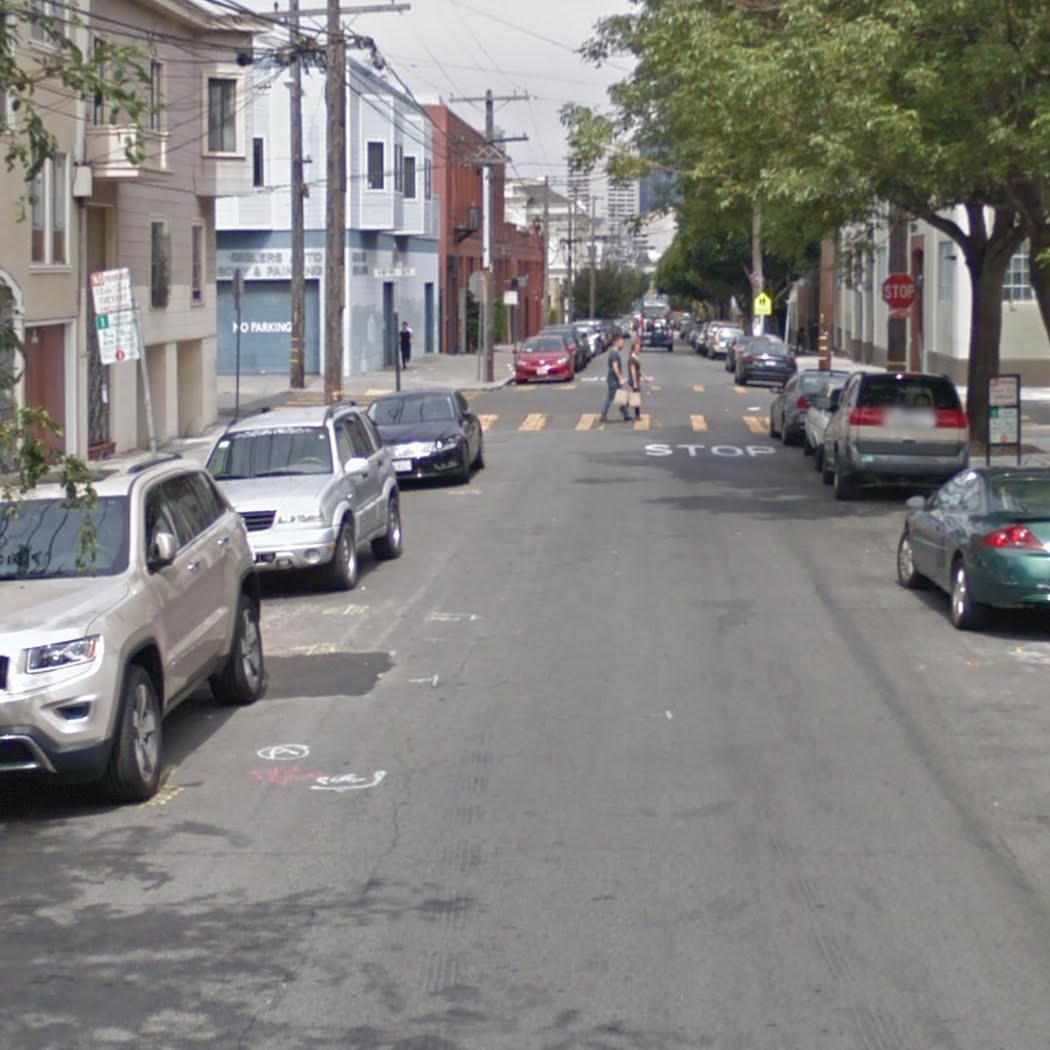1 Hour Parking: (94, 313, 143, 366)
No Parking: (88, 266, 135, 316)
